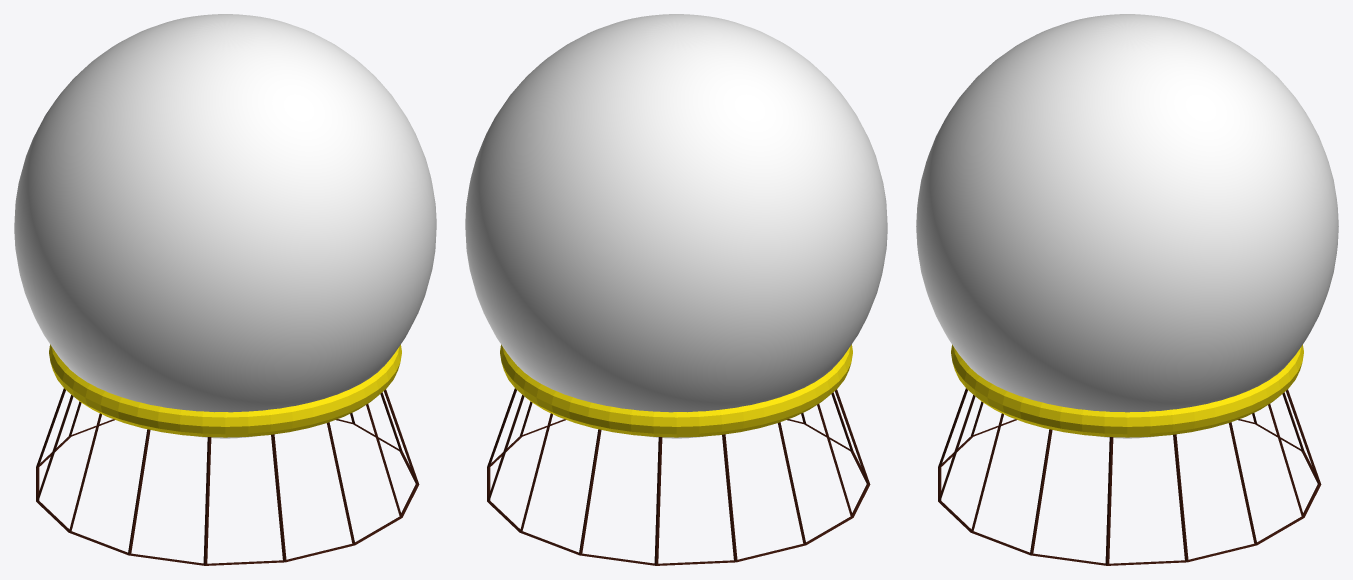
Rendered from Mirror orb.obj.
3 views of the same model, side by side, from view 1: azimuth 30°, elevation 25°; view 2: azimuth 150°, elevation 25°; view 3: azimuth 270°, elevation 25° (orthographic).
Parts seen in each view (by area): view 1: Sphere, Torus, Cylinder; view 2: Sphere, Torus, Cylinder; view 3: Sphere, Torus, Cylinder.
Part boxes in pixels (x1,y1,x2,y2): Sphere: (14,14,436,438); Torus: (49,344,401,437); Cylinder: (36,388,419,565); Sphere: (465,14,887,438); Torus: (500,344,852,437); Cylinder: (487,388,870,565); Sphere: (916,14,1338,438); Torus: (951,344,1303,437); Cylinder: (938,388,1321,565).
Size of the model in its own units: 5.36 by 6.32 by 5.36.
